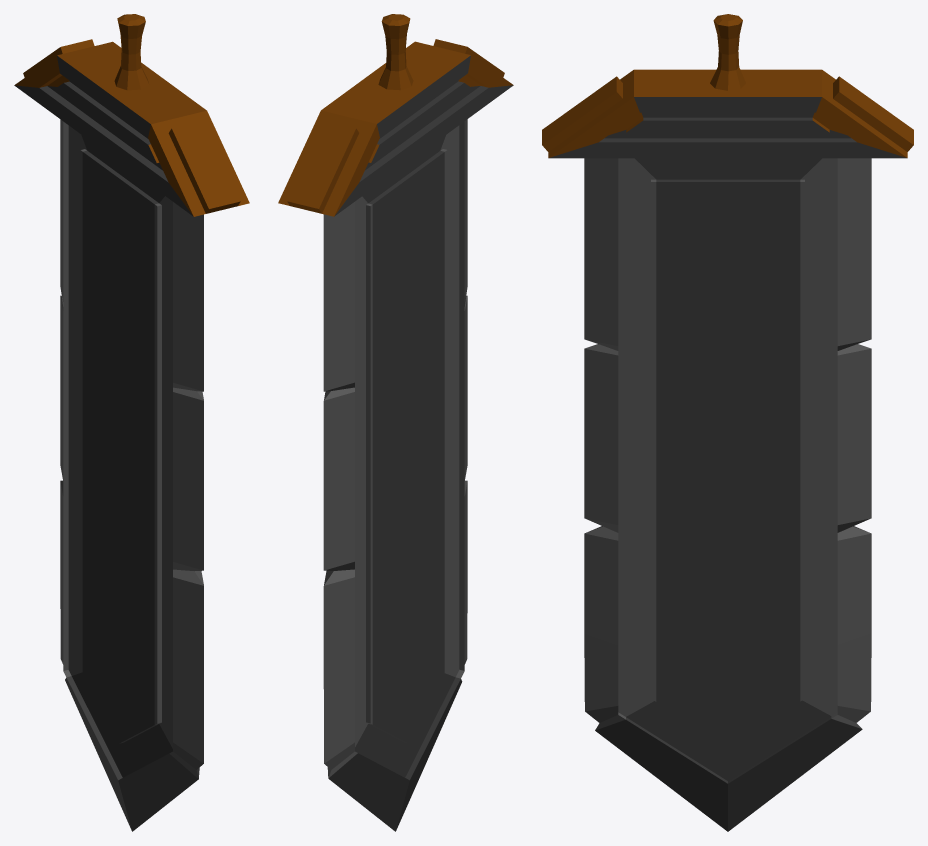
File: PedangBesar.fbx
The picture shows the model from 3 angles, left to right: view 1: azimuth 30°, elevation 25°; view 2: azimuth 150°, elevation 25°; view 3: azimuth 270°, elevation 25°; orthographic projection.
Parts seen in each view (by area): view 1: Cube.003, Cube, Cube.002, Cube.004; view 2: Cube.003, Cube, Cube.002, Cube.004; view 3: Cube.003, Cube, Cube.002, Cube.004.
Part boxes in pixels (left/top/right/bottom): Cube.003: left=65, top=135, right=198, bottom=831; Cube: left=60, top=119, right=203, bottom=778; Cube.002: left=14, top=14, right=249, bottom=216; Cube.004: left=14, top=55, right=193, bottom=216; Cube.003: left=328, top=135, right=462, bottom=831; Cube: left=323, top=119, right=467, bottom=778; Cube.002: left=278, top=14, right=513, bottom=216; Cube.004: left=334, top=55, right=513, bottom=216; Cube.003: left=595, top=158, right=862, bottom=831; Cube: left=584, top=158, right=871, bottom=730; Cube.002: left=542, top=14, right=913, bottom=157; Cube.004: left=548, top=97, right=907, bottom=158.
Bounding box in the file's own units: 13.12 × 182 × 75.39.
